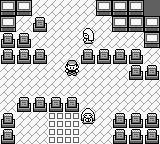main: (65, 60, 79, 76)
no-caminable: (97, 0, 159, 48), (80, 48, 159, 80), (0, 33, 48, 64), (112, 113, 159, 143), (16, 96, 80, 112), (0, 1, 32, 32), (0, 113, 16, 143), (144, 0, 160, 18), (32, 17, 48, 32)
npc: (81, 109, 96, 124), (82, 29, 94, 43)
recuperarse: (48, 111, 80, 144)
